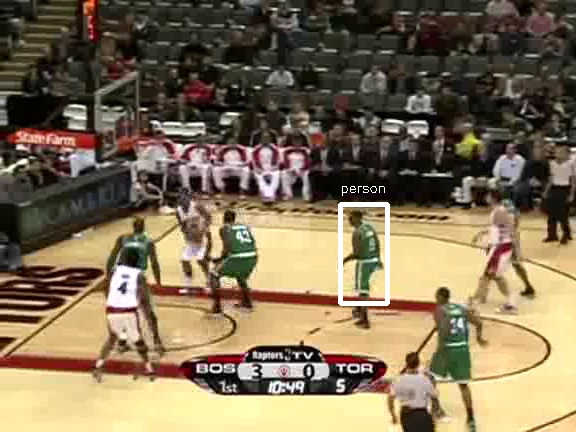person: (353, 217, 387, 298), (352, 217, 386, 298), (354, 217, 388, 298), (353, 216, 387, 297), (353, 218, 387, 299)
target_negative: (209, 92, 525, 376), (28, 43, 513, 137), (449, 241, 479, 395), (113, 351, 170, 412), (474, 374, 488, 424), (492, 136, 494, 148)
